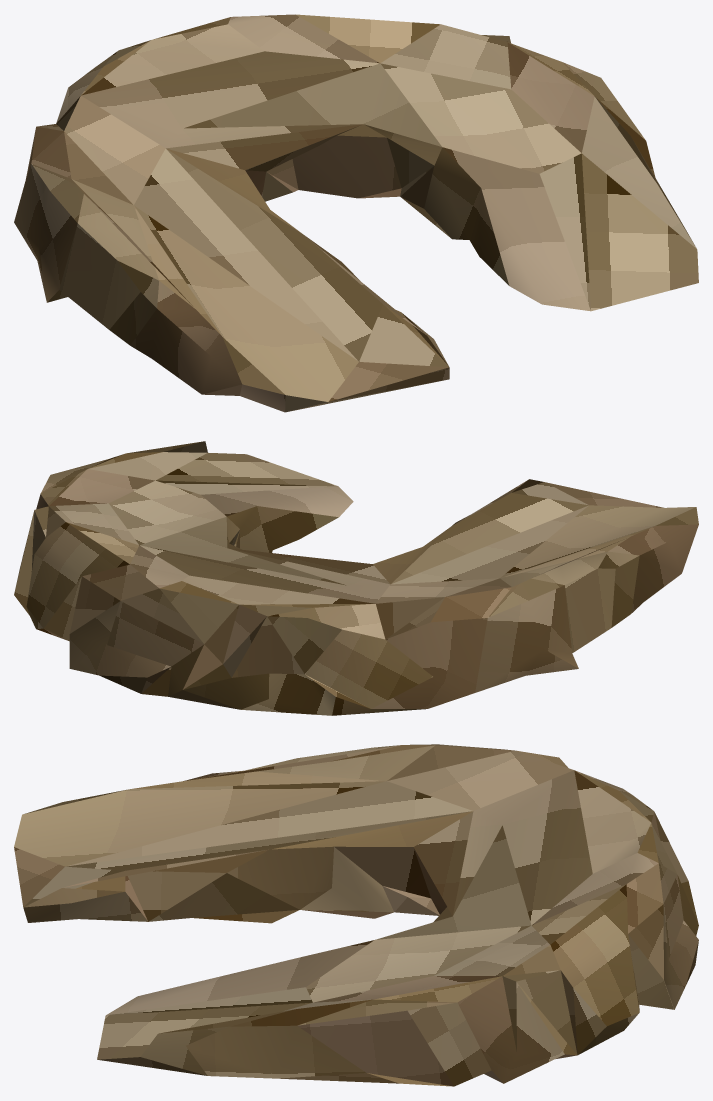
File: hairpin-turn.collision.glb
3 renders of one model, top to bottom at view 1: azimuth 30°, elevation 25°; view 2: azimuth 150°, elevation 25°; view 3: azimuth 270°, elevation 25°, orthographic. The views are drawn at different scales.
Parts seen in each view (by area): view 1: output_unwrapped; view 2: output_unwrapped; view 3: output_unwrapped.
Boxes of the visible parts, bbox=[...] form: output_unwrapped: bbox=[14, 14, 698, 412]; output_unwrapped: bbox=[14, 441, 698, 715]; output_unwrapped: bbox=[14, 744, 698, 1086].
Size of the model in its own units: 1.8 by 0.3497 by 1.88.
Materials: 1 (1 with a texture image).
